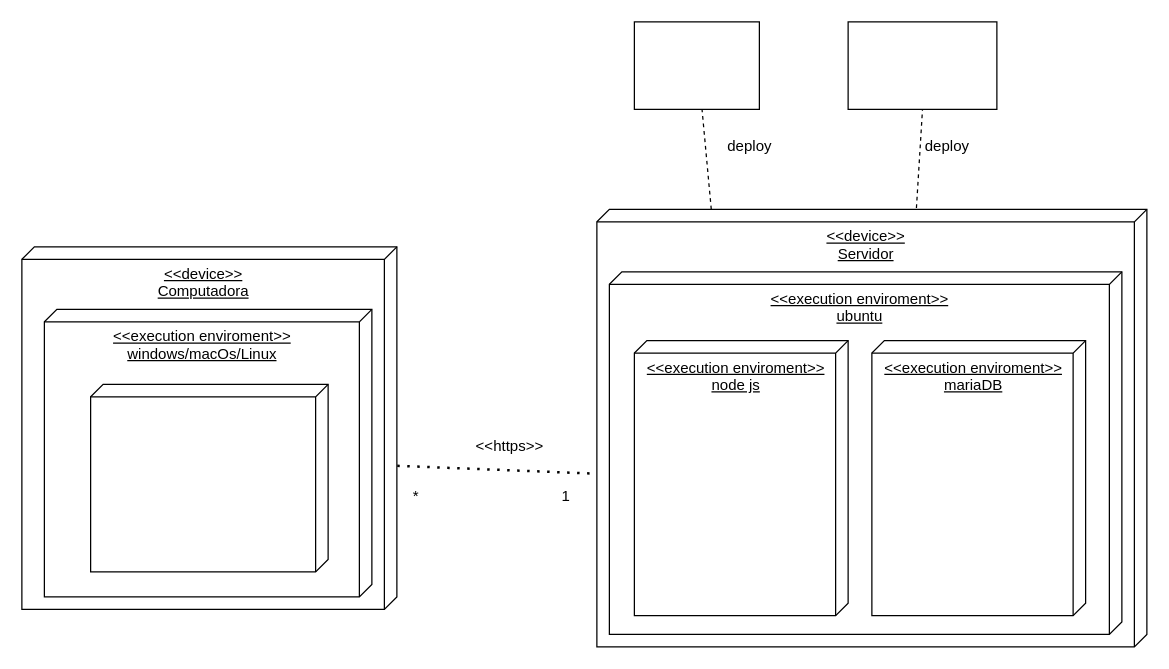
Image size: 1169x669. Some labels were removed from this diagram. Each missing label, with the centre of its shape:
"<<execution enviroment>> Chrome" belongs at (x=208, y=477).
"«artifact » SIRE Database" belongs at (x=696, y=65).
"«artifact» SIRE" belongs at (x=922, y=65).
